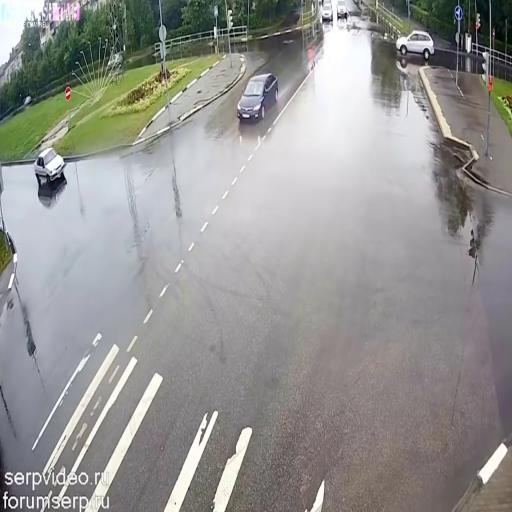小汽车: (236, 71, 281, 123), (397, 28, 431, 66), (38, 146, 66, 186), (322, 5, 336, 26), (334, 2, 350, 19)
